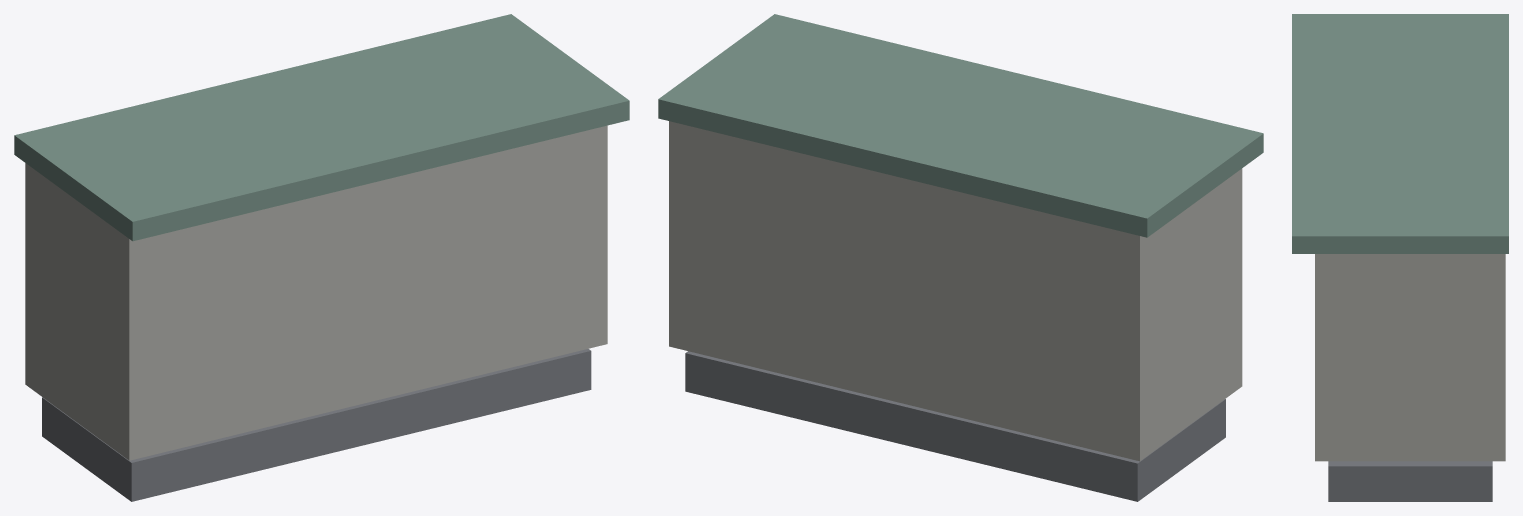
The model's file is mov_e65fad24bd.gltf.
3 renders of one model, left to right at view 1: azimuth 30°, elevation 25°; view 2: azimuth 150°, elevation 25°; view 3: azimuth 270°, elevation 25°, orthographic. The views are drawn at different scales.
Visible parts, largest first — view 1: mov_e65fad24bd; view 2: mov_e65fad24bd; view 3: mov_e65fad24bd.
Part boxes in pixels (x1,y1,x2,y2): mov_e65fad24bd: (14,14,629,501); mov_e65fad24bd: (658,14,1263,501); mov_e65fad24bd: (1292,14,1508,501).
Size of the model in its own units: 1.6 by 0.92 by 0.66.
